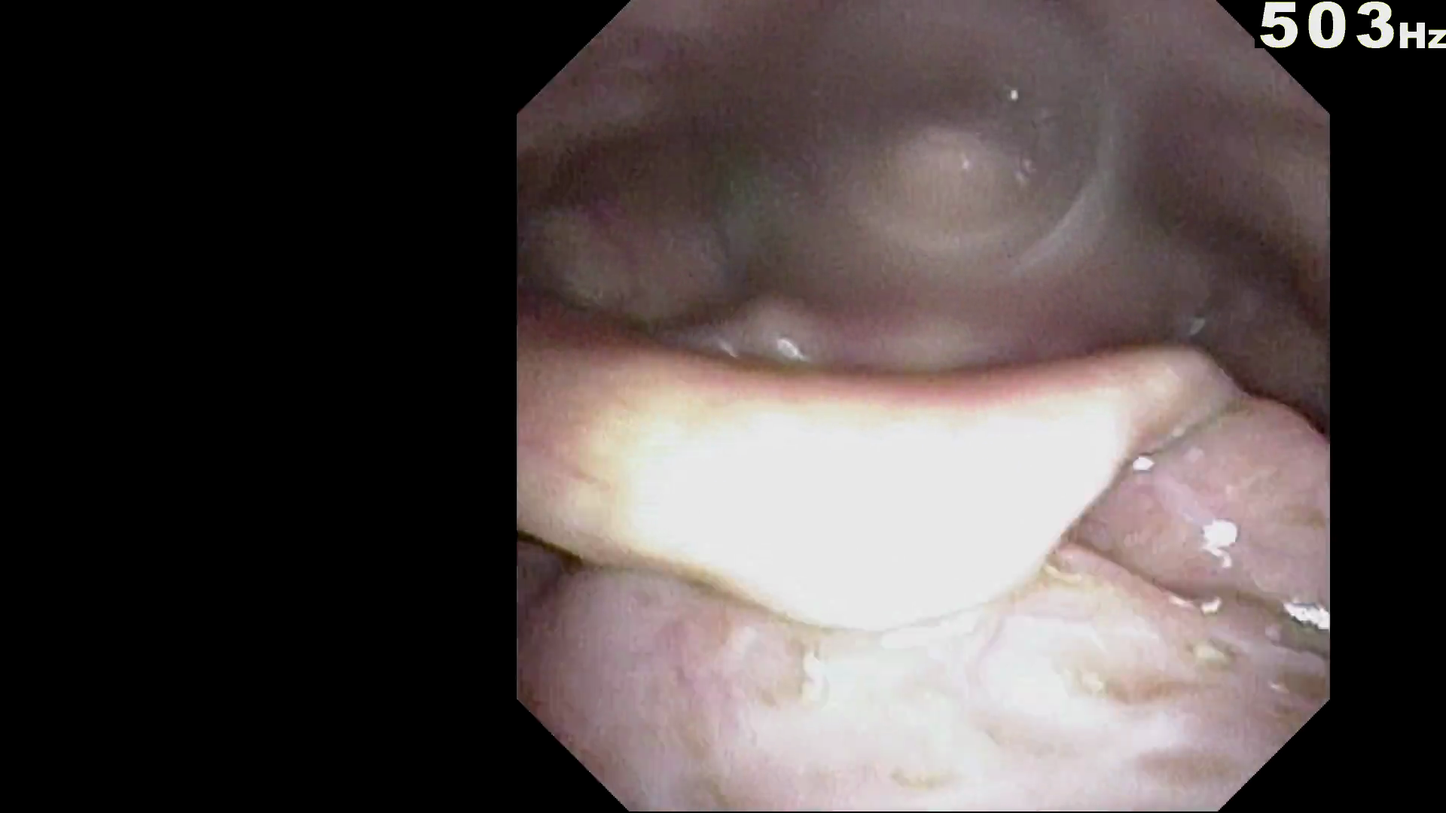epiglottis: (605, 357, 1220, 581)
